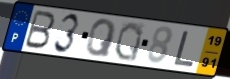3: (52, 13, 84, 55)
8: (146, 25, 175, 66)
B: (22, 9, 57, 51)
L: (172, 29, 196, 68)
Q: (113, 20, 145, 63), (85, 18, 118, 59)
